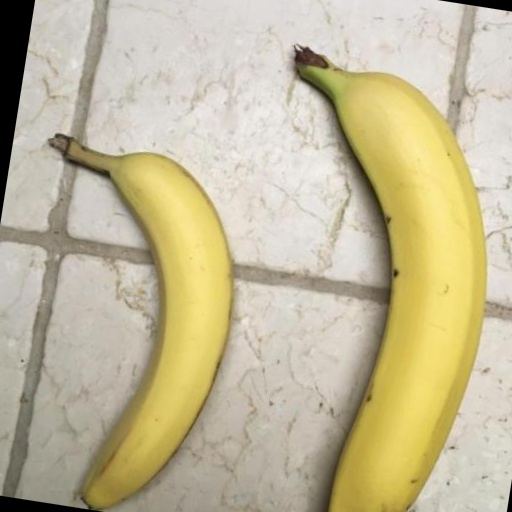fruit: (297, 48, 486, 512), (50, 135, 232, 509)
